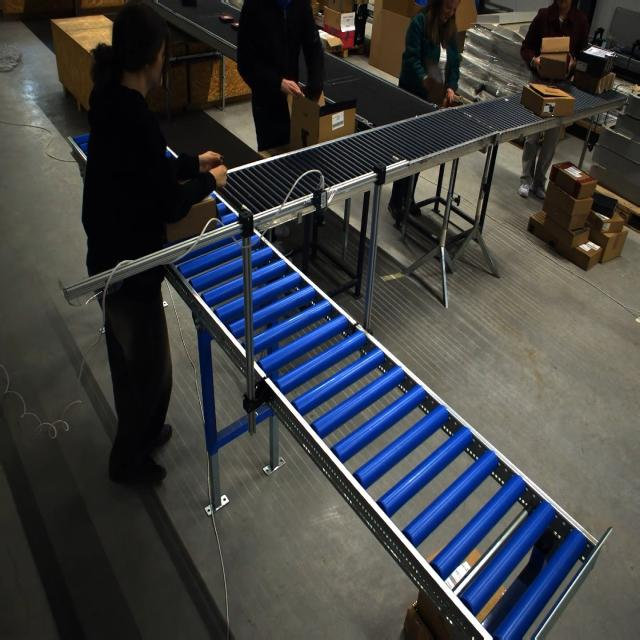box: (166, 183, 217, 246), (294, 88, 340, 150), (538, 35, 572, 79)
